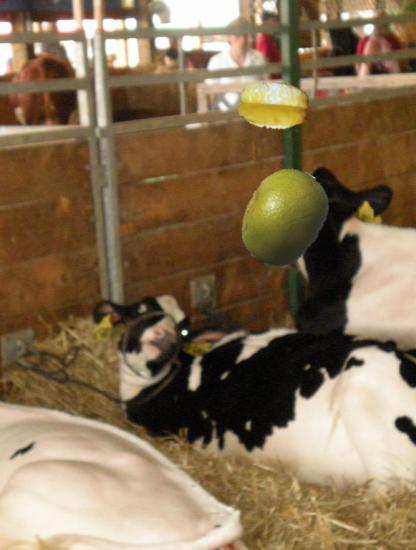Carambula: (237, 70, 308, 141)
Pomelo: (234, 167, 335, 268)
